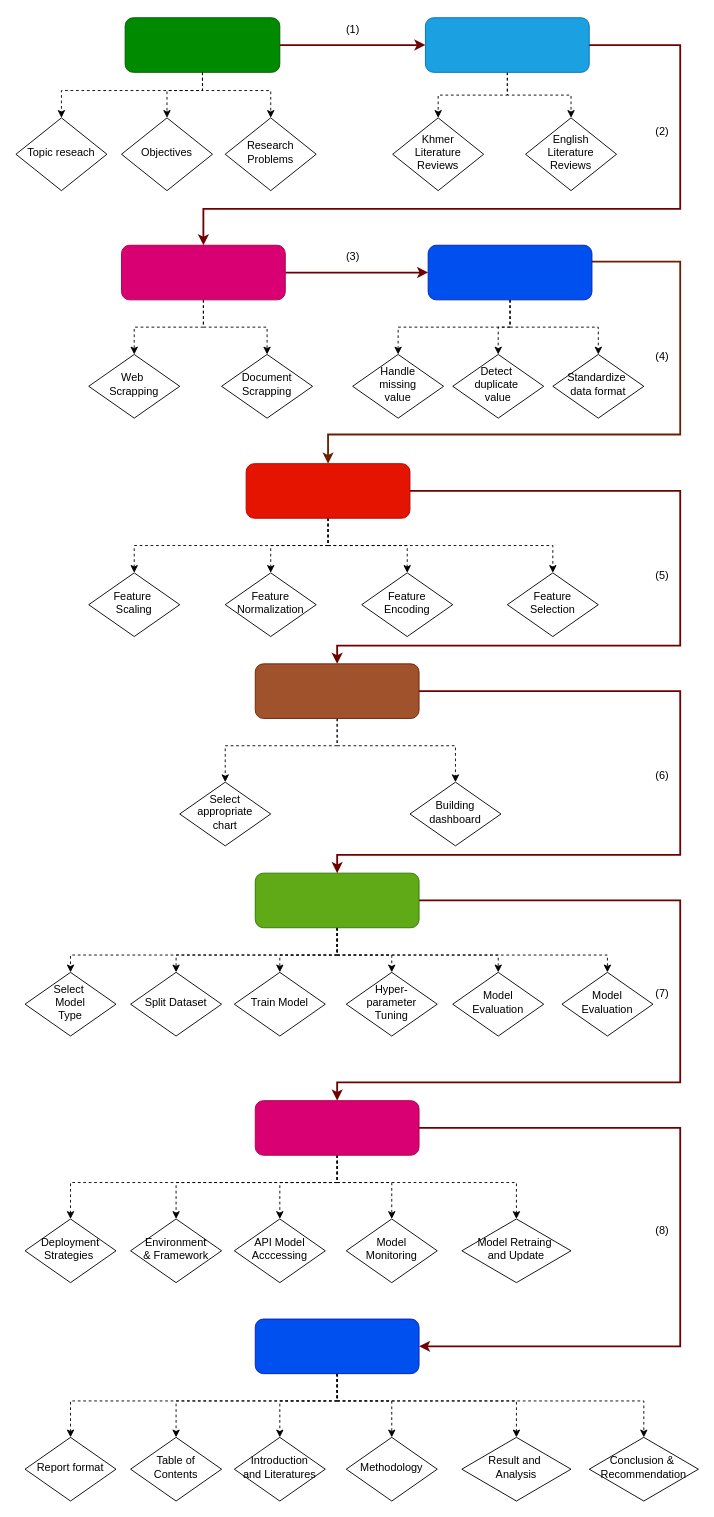
Image size: 714x1517. Some labels were removed from this diagram. Here are the shapes that lost their labels. From the top down, the box of each, then its label:
(124, 17, 280, 72): Determe topic research, objectives and research problem
(425, 17, 589, 72): Study relevant literature reviews
(121, 244, 285, 300): Data Collection
(427, 244, 592, 300): Data Cleaning
(245, 463, 410, 518): Data Transformation
(254, 663, 419, 718): Data Visualization
(254, 872, 419, 928): Model Building and Evaluation
(254, 1100, 419, 1155): Model Deployment
(254, 1318, 419, 1374): Report Documentation
